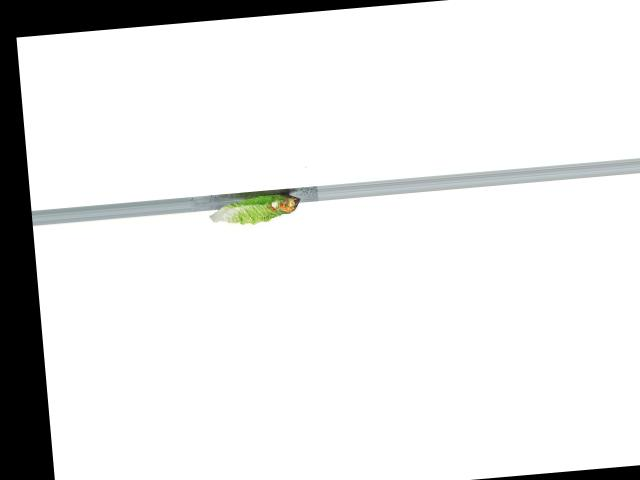lettuce: (206, 187, 305, 231)
